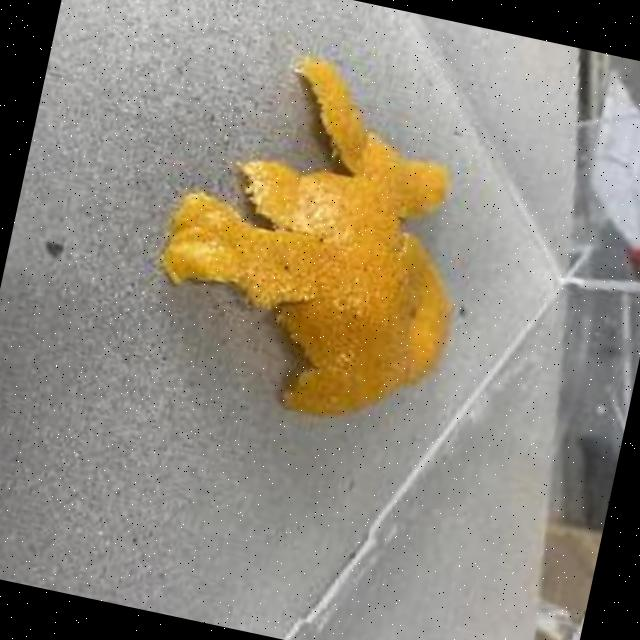orange-peel: (130, 28, 504, 442)
